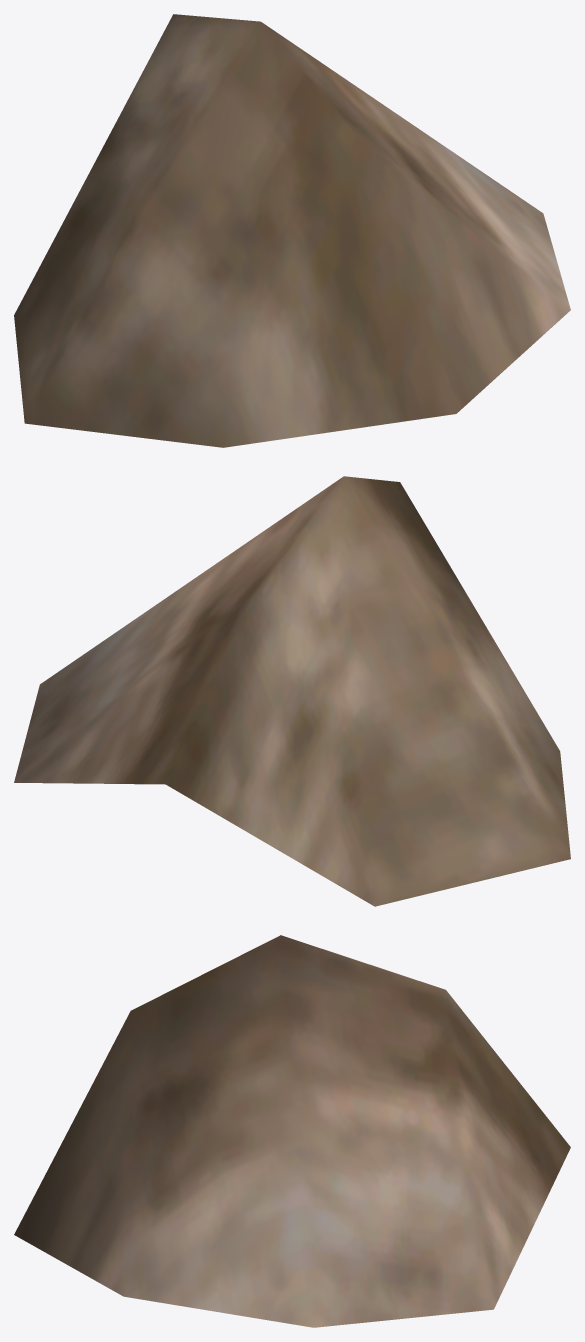
The model's file is OVERHILL_A_01_ROCK66.fbx.
The picture shows the model from 3 angles, top to bottom: view 1: azimuth 30°, elevation 25°; view 2: azimuth 150°, elevation 25°; view 3: azimuth 270°, elevation 25°; orthographic projection. The views are drawn at different scales.
Parts seen in each view (by area): view 1: OVERHILL_A_01_ROCK66; view 2: OVERHILL_A_01_ROCK66; view 3: OVERHILL_A_01_ROCK66.
Boxes of the visible parts, x1,y1,x2,y2 form: OVERHILL_A_01_ROCK66: (14,14,570,447); OVERHILL_A_01_ROCK66: (14,476,570,906); OVERHILL_A_01_ROCK66: (14,935,570,1327).
Bounding box in the file's own units: 2340 × 1430 × 2273.
1 material, 1 textured.
